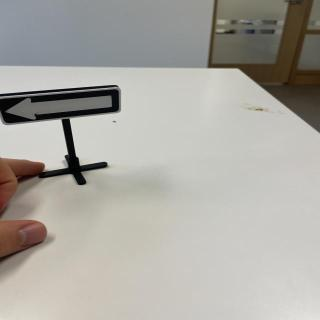sign_oneway_left: (2, 85, 123, 127)
